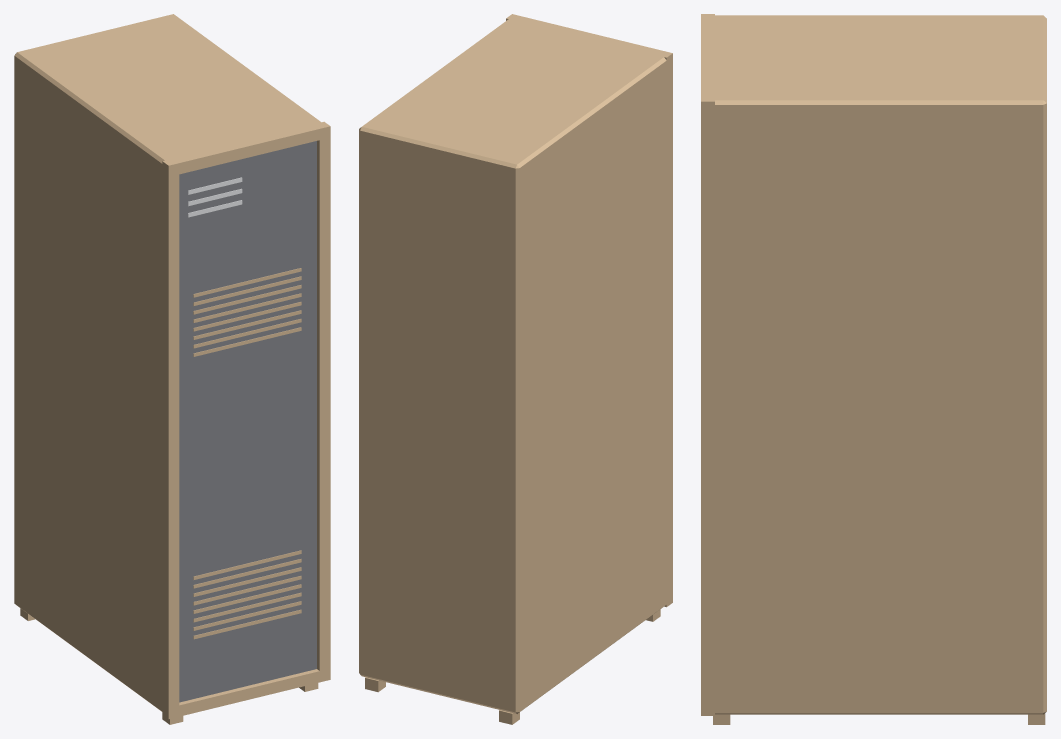
File: server_rack.glb
3 views of the same model, side by side, from view 1: azimuth 30°, elevation 25°; view 2: azimuth 150°, elevation 25°; view 3: azimuth 270°, elevation 25° (orthographic). The views are drawn at different scales.
Visible parts, largest first — view 1: server_rack; view 2: server_rack; view 3: server_rack.
Part boxes in pixels (x1,y1,x2,y2): server_rack: (14, 14, 330, 724); server_rack: (359, 14, 672, 724); server_rack: (701, 14, 1046, 724).
Bounding box in the file's own units: 0.6 × 2 × 1.
